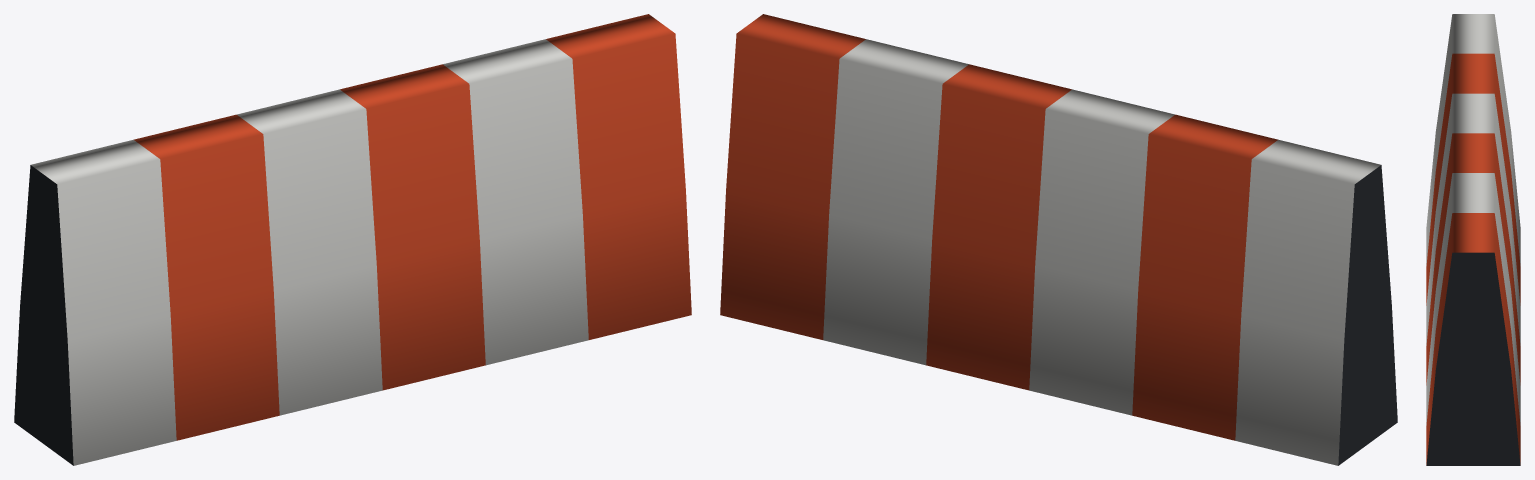
The model's file is mobile.glb.
3 views of the same model, side by side, from view 1: azimuth 30°, elevation 25°; view 2: azimuth 150°, elevation 25°; view 3: azimuth 270°, elevation 25° (orthographic). The views are drawn at different scales.
Parts seen in each view (by area): view 1: barrier; view 2: barrier; view 3: barrier.
Part boxes in pixels (x1=…): barrier: x1=14, y1=14, x2=691, y2=465; barrier: x1=720, y1=14, x2=1397, y2=465; barrier: x1=1426, y1=14, x2=1520, y2=465.
Bounding box in the file's own units: 2.4 × 1 × 0.4.
